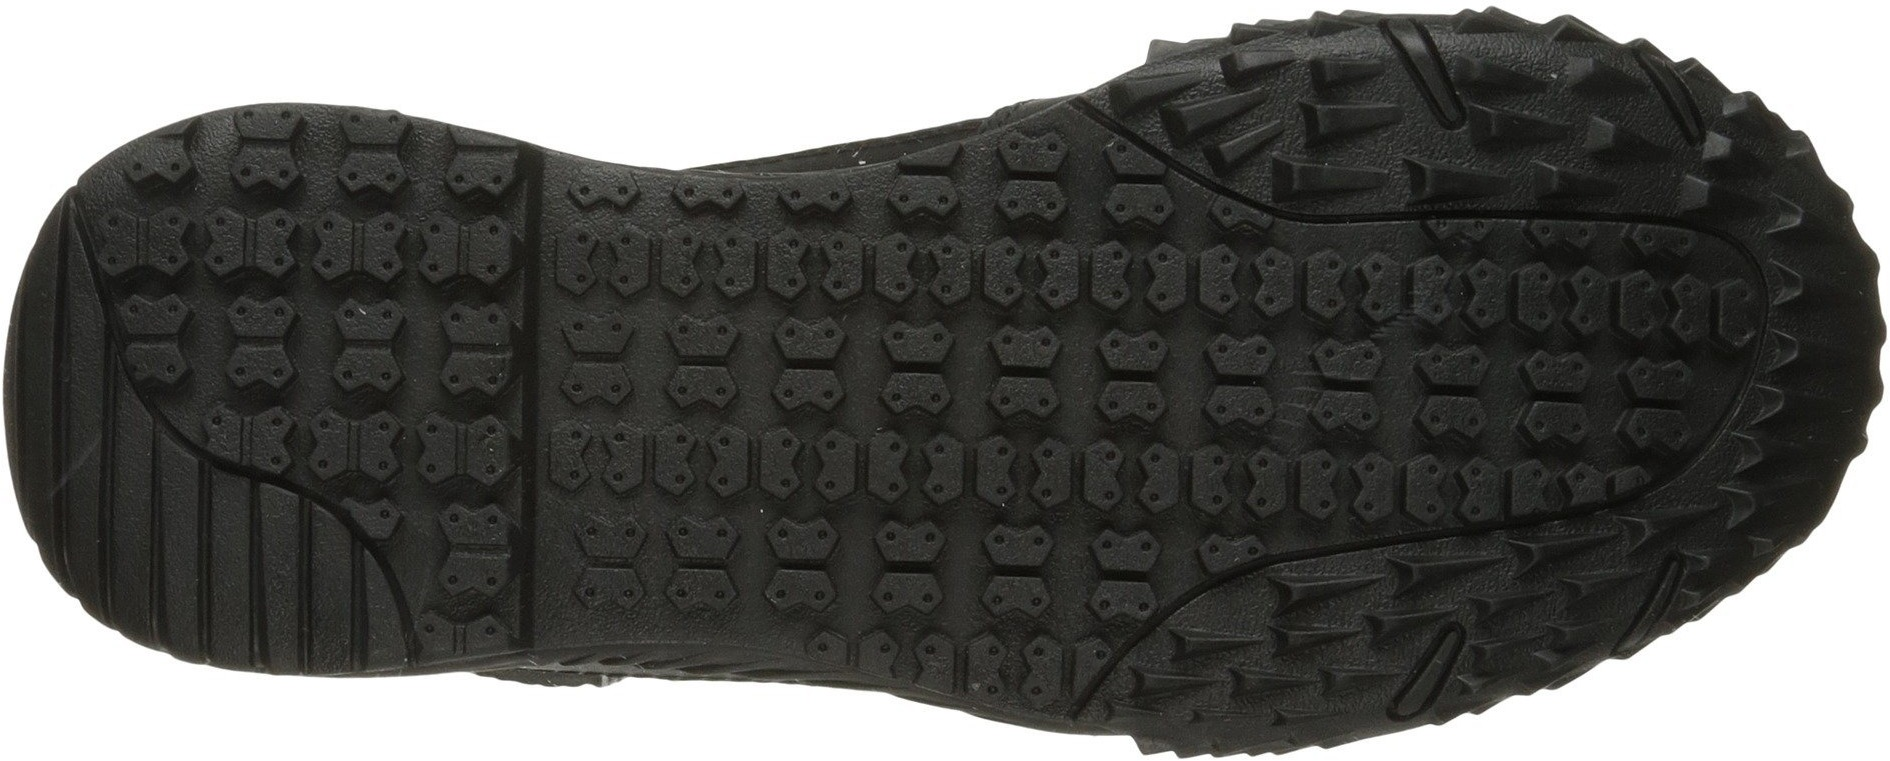bowtie: (750, 219, 980, 418), (333, 291, 513, 488), (1088, 322, 1196, 443), (190, 201, 313, 286)
circle: (750, 219, 980, 418), (333, 291, 513, 488), (1088, 322, 1196, 443), (190, 201, 313, 286)
line: (750, 219, 980, 418), (333, 291, 513, 488), (1088, 322, 1196, 443), (190, 201, 313, 286)
other: (750, 219, 980, 418), (333, 291, 513, 488), (1088, 322, 1196, 443), (190, 201, 313, 286)
quad: (83, 457, 274, 663)
star: (759, 312, 865, 408)
triangle: (1264, 560, 1389, 620)
